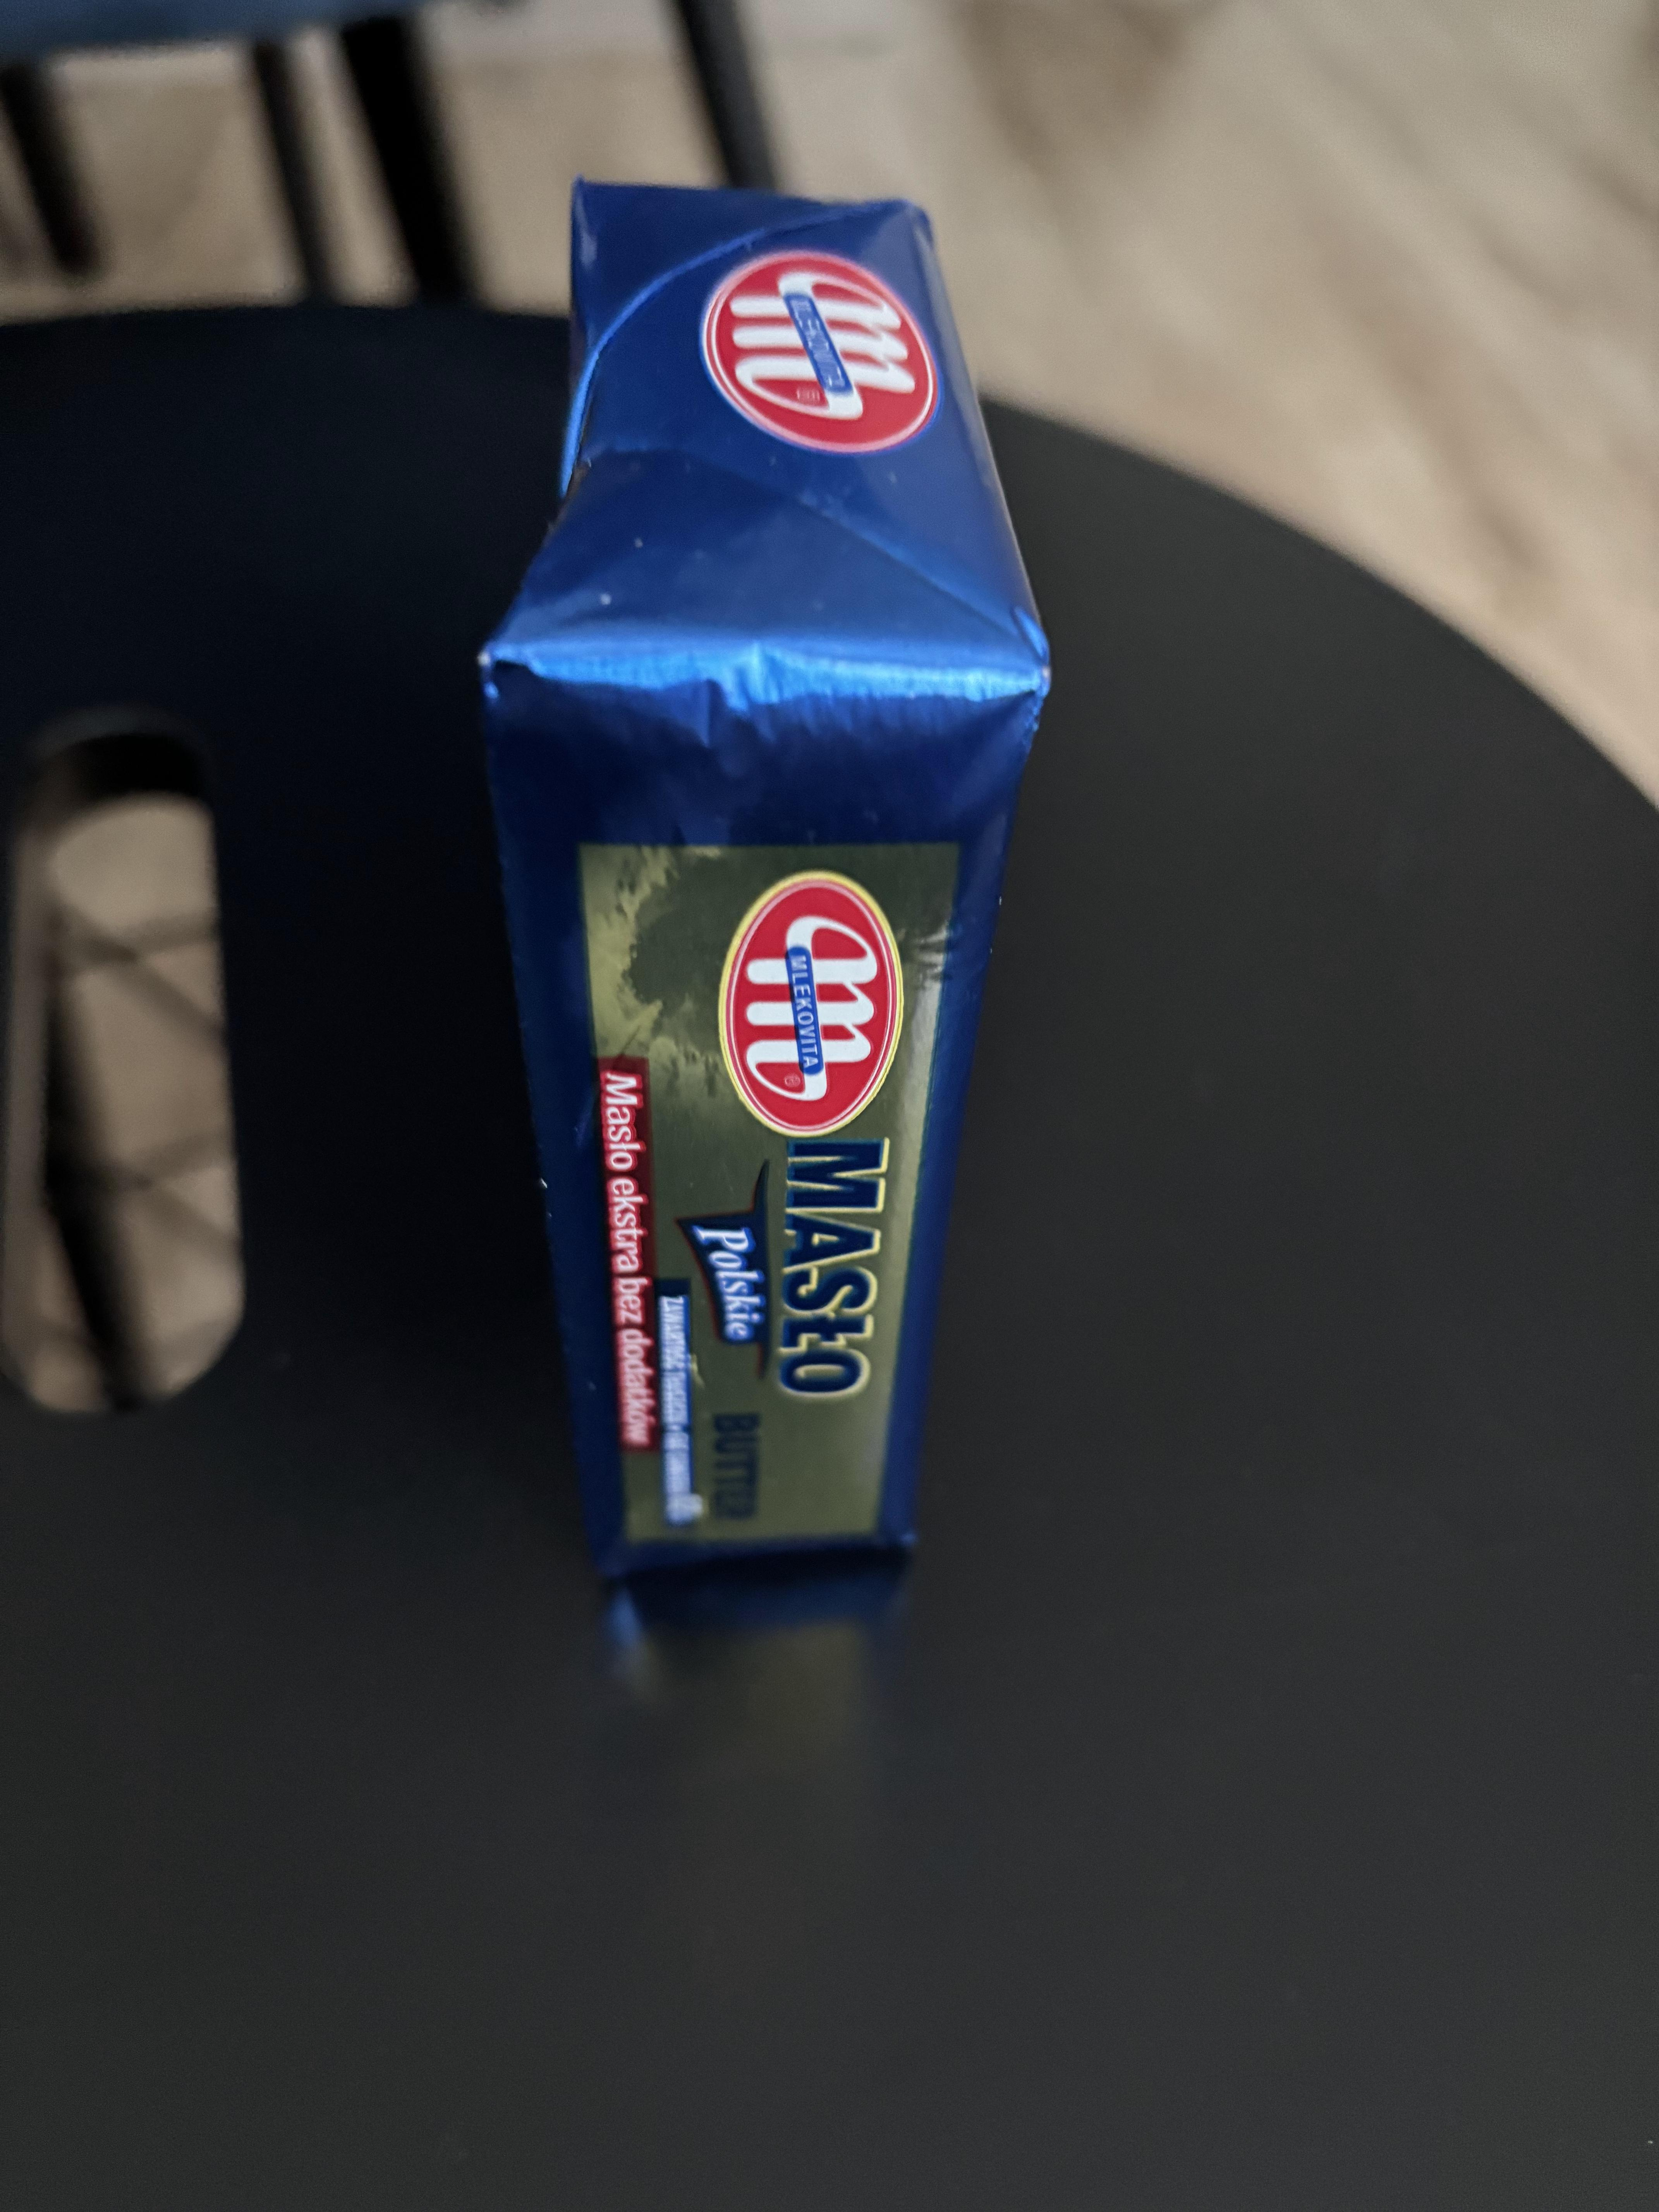Butter: (533, 193, 993, 1639)
